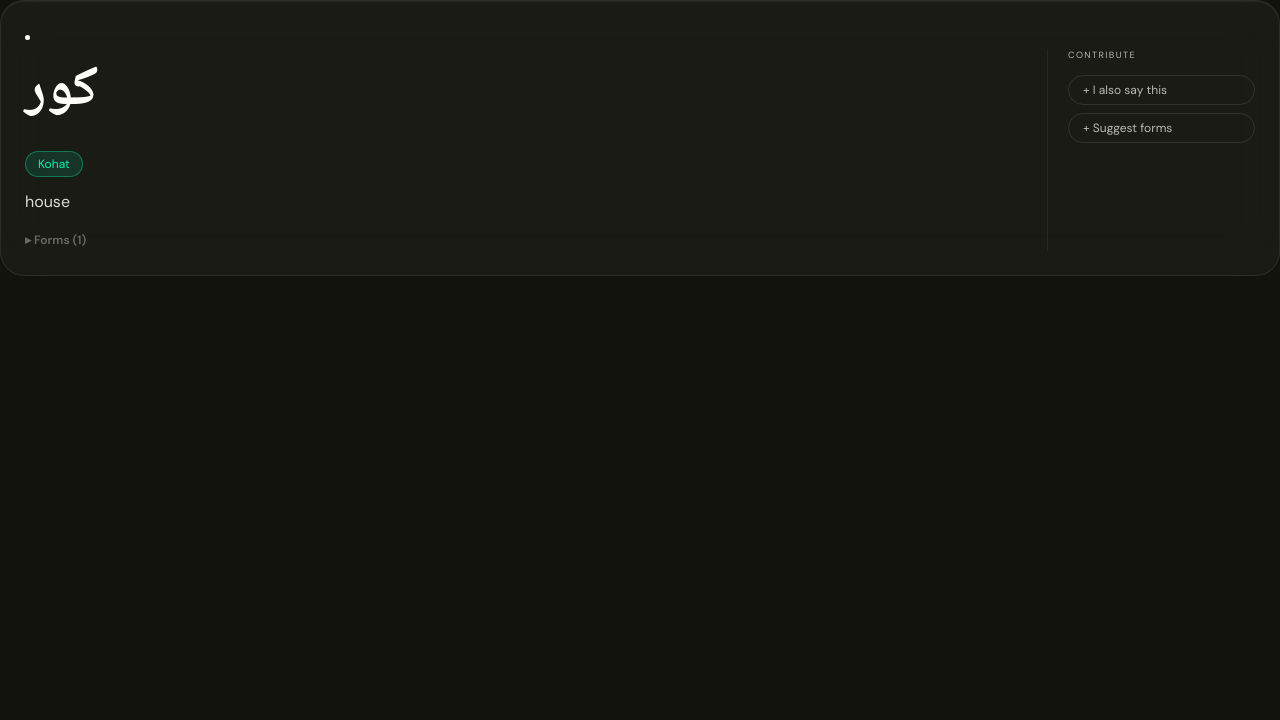
it: Suggest forms on the concept page › a signed-in user suggests a missing form; filled slots cannot be picked
Click the button "+ Suggest forms". click: point(1162, 128)
box: [1068,112,1255,142]
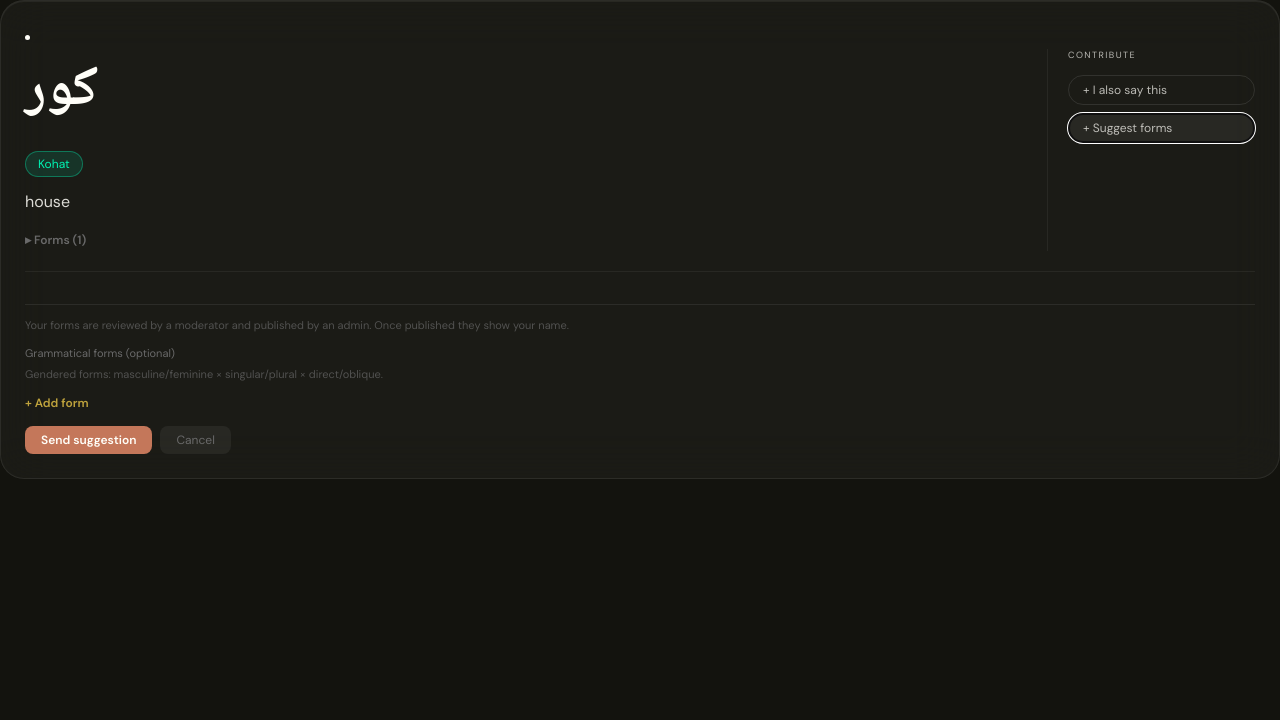
Click the button "+ Add form". click: point(57, 403)
box: [25,395,88,411]
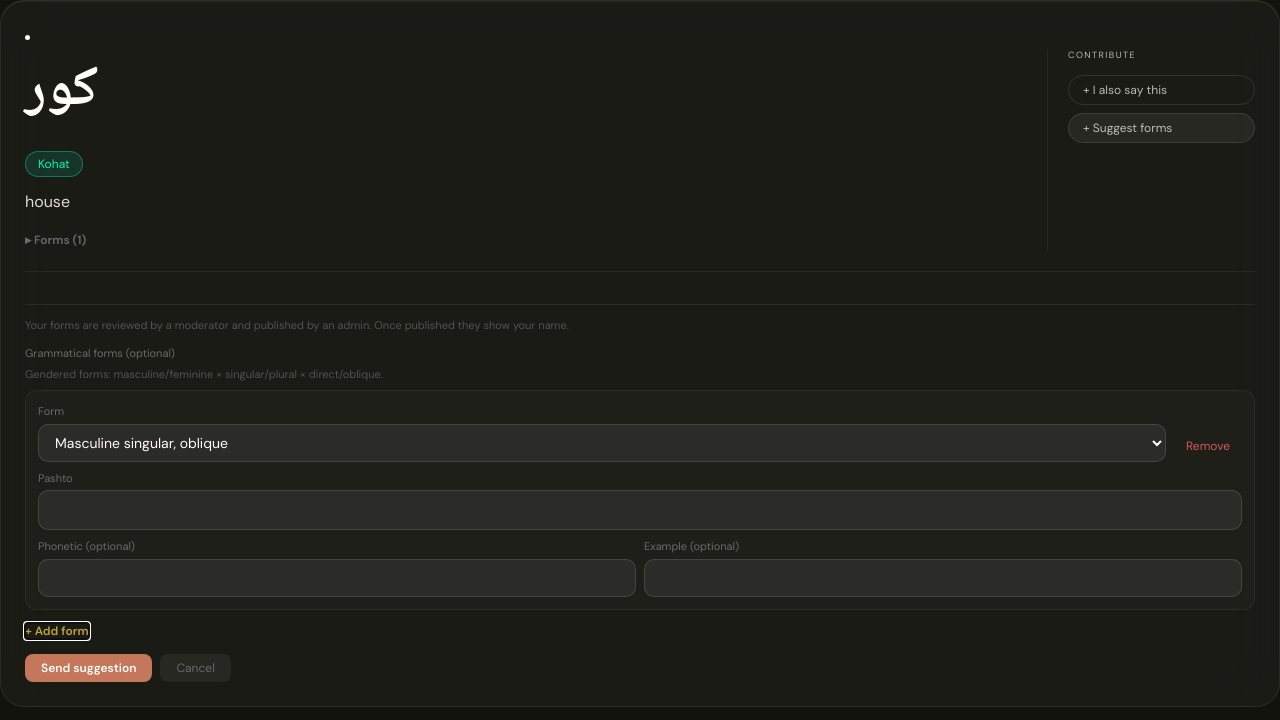
Select "Masculine plural, direct" in the dropdown labelled "Form". click: point(602, 443)
box: [38,424,1166,462]
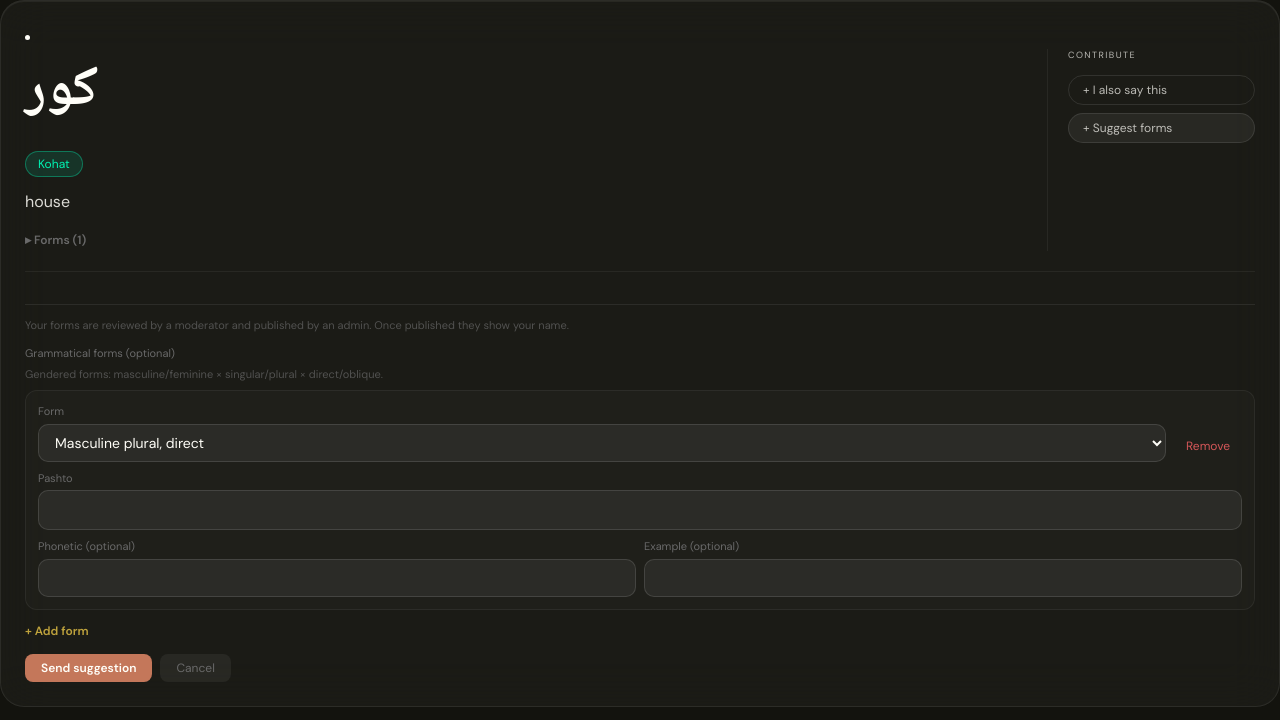
Type "کورونه" into the field labelled "Pashto". click: point(640, 510)
box: [38,490,1242,530]
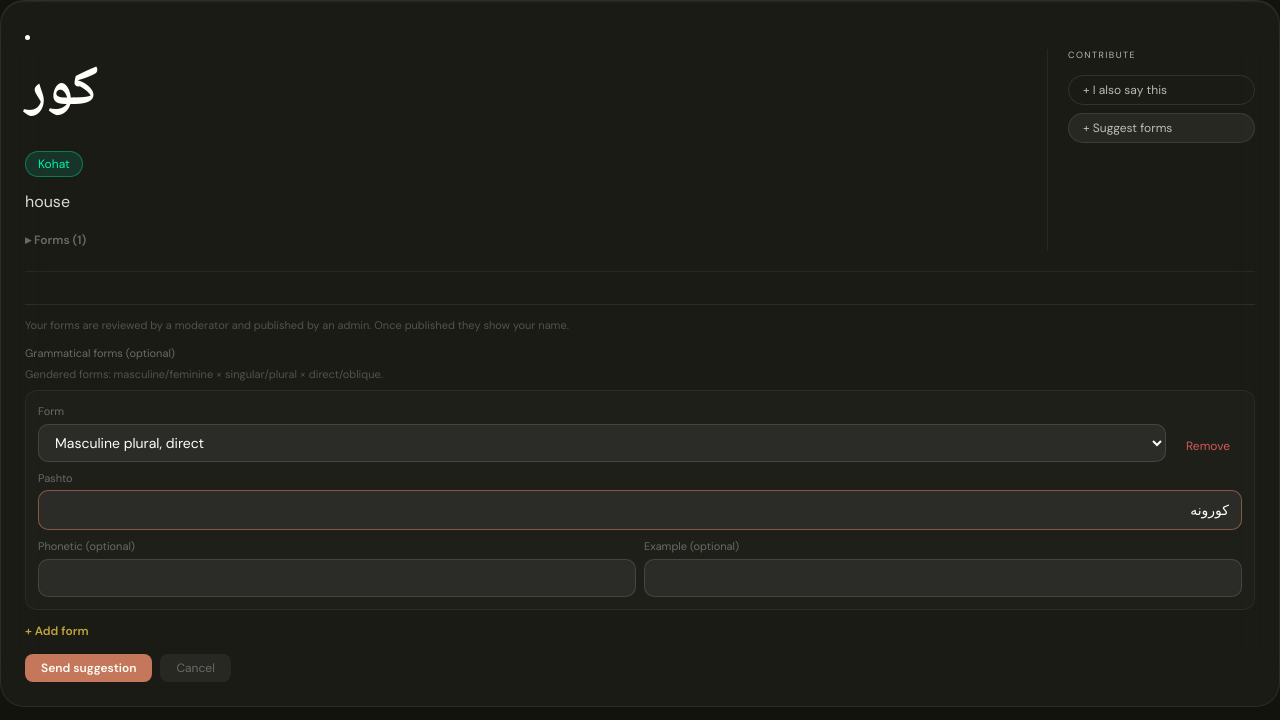
Click the button "Send suggestion". click: point(89, 668)
box: [25,654,152,682]
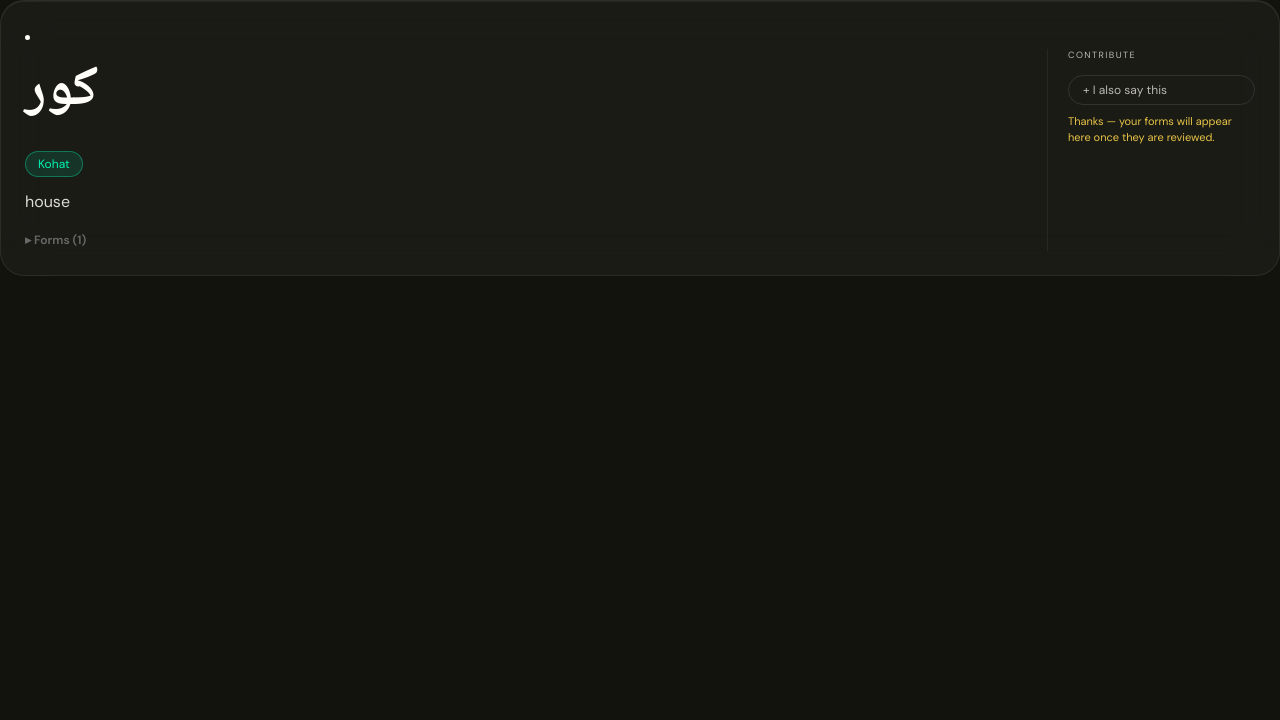
Expected: the text "Thanks — your forms will appear here once they are reviewed." is shown, [1068,112,1255,146]
